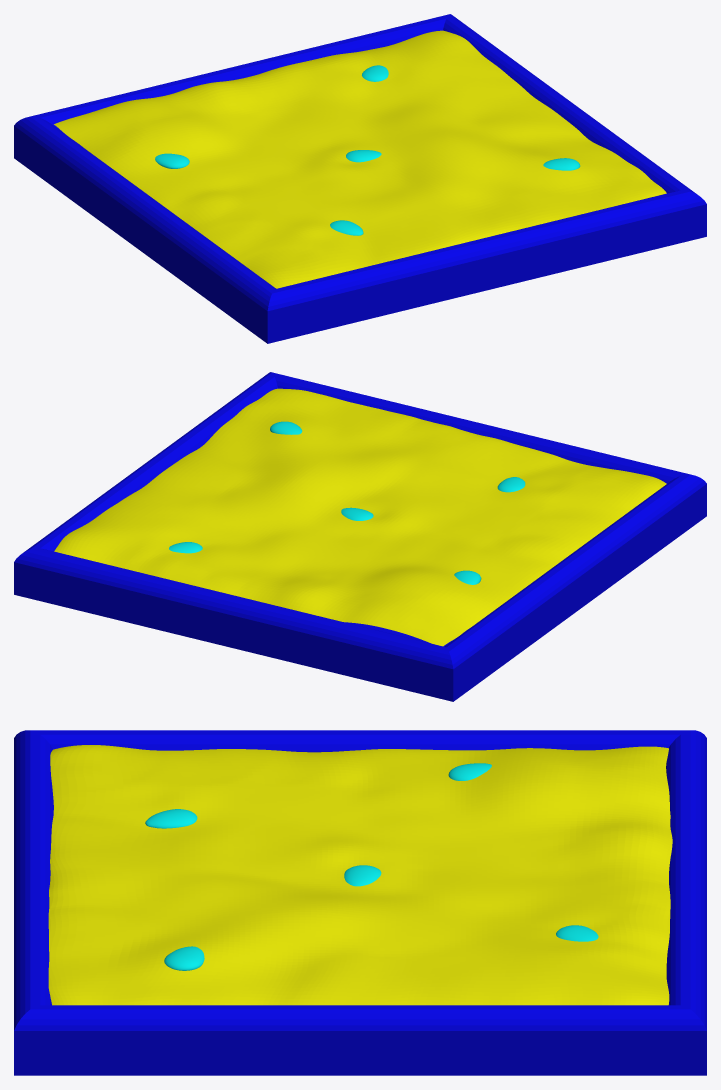
Rendered from Stage_1.fbx.
3 views of the same model, one above another, from view 1: azimuth 30°, elevation 25°; view 2: azimuth 150°, elevation 25°; view 3: azimuth 270°, elevation 25° (orthographic). The views are drawn at different scales.
Visible parts, largest first — view 1: pasted__pasted__Bed_HPdirt, pasted__pasted__baseBed_HP; view 2: pasted__pasted__Bed_HPdirt, pasted__pasted__baseBed_HP; view 3: pasted__pasted__Bed_HPdirt, pasted__pasted__baseBed_HP, Apple_Seed_1_Stage_1, Apple_Seed_1_Stage_2, Apple_Seed_1_Stage_5, Apple_Seed_1_Stage_4, Apple_Seed_1_Stage_3.
Boxes of the visible parts, x1,y1,x2,y2 form: pasted__pasted__Bed_HPdirt: [54, 30, 666, 288]; pasted__pasted__baseBed_HP: [14, 14, 706, 343]; pasted__pasted__Bed_HPdirt: [54, 388, 666, 646]; pasted__pasted__baseBed_HP: [14, 372, 706, 701]; pasted__pasted__Bed_HPdirt: [48, 745, 672, 1005]; pasted__pasted__baseBed_HP: [14, 730, 706, 1075]; Apple_Seed_1_Stage_1: [145, 809, 197, 828]; Apple_Seed_1_Stage_2: [164, 946, 204, 970]; Apple_Seed_1_Stage_5: [344, 865, 381, 886]; Apple_Seed_1_Stage_4: [556, 925, 598, 941]; Apple_Seed_1_Stage_3: [448, 763, 491, 780].
Size of the model in its own units: 4.24 by 0.4734 by 4.24.
